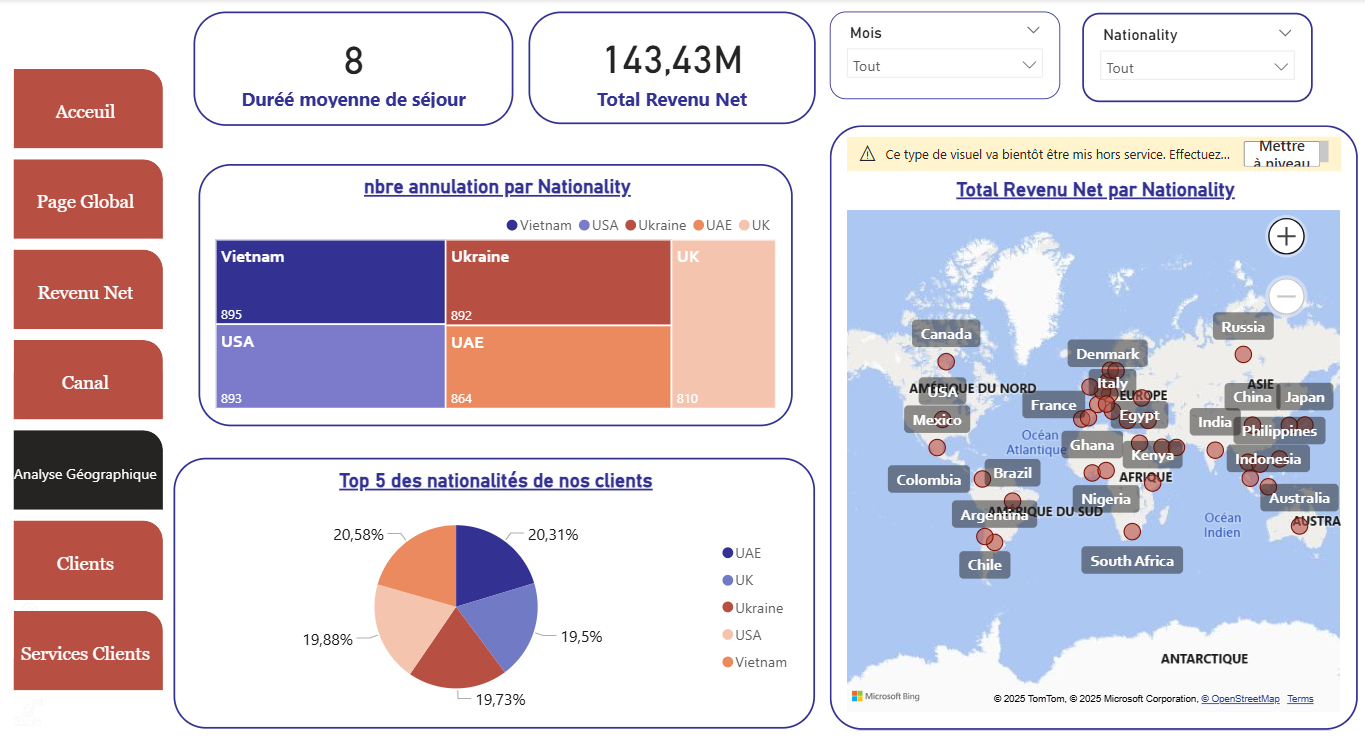

This screenshot's page, from the dashboard's own definition file:
{"tool":"powerbi","page":{"name":"Analyse Géographique","canvas":[1280,720],"ordinal":4},"visuals":[{"type":"pieChart","title":"Top 5 des nationalités de nos clients","fields":{"Series":["Dim_Guest.Nationality"],"Y":["CountNonNull(Dim_Guest.Guest ID)"]},"box":[165.1,426.8,596.7,251.9],"z":0},{"type":"card","fields":{"Values":["Fact_Reservation.Total Revenu Net"]},"box":[495.2,12.1,267.1,104.7],"z":1000},{"type":"treemap","title":"Nombre d''annulation par région","fields":{"Values":["Fact_Reservation.nbre annulation"],"Group":["Dim_Guest.Nationality"]},"box":[187.9,153,552.9,244.2],"z":2000},{"type":"card","fields":{"Values":["Fact_Reservation.Average Nights by Stay Reason"]},"box":[183.9,12.1,297.9,106],"z":3000},{"type":"slicer","fields":{"Values":["DimDate.Date.Variation.Hiérarchie de dates.Mois"]},"box":[775.3,11.7,214.3,81.8],"z":4000},{"type":"slicer","fields":{"Values":["Dim_Guest.Nationality"]},"box":[1010.4,13,214.3,83.1],"z":5000},{"type":"map","title":"Total Revenu Net par région","fields":{"Category":["Dim_Guest.Nationality"]},"box":[775.6,117.1,491.5,562.2],"z":6000},{"type":"image","box":[4.9,146.7,44,74.6],"z":7000},{"type":"image","box":[0,221.3,56.3,107.6],"z":8000},{"type":"image","box":[0,338.7,56.3,88],"z":9000},{"type":"image","box":[0,396.2,56.3,110.1],"z":10000},{"type":"image","box":[0,528.3,64.8,116.2],"z":11000},{"type":"image","box":[1.2,628.5,56.3,91.7],"z":12000},{"type":"pageNavigator","box":[15.9,64.8,139.4,579.6],"z":13000}]}

Visuals, with their boxes in screenshot pixels (x1, y1, x2, y2):
"Top 5 des nationalités de nos clients" pieChart: rect(173, 453, 812, 723)
card - Fact_Reservation.Total Revenu Net: rect(526, 9, 812, 121)
"Nombre d''annulation par région" treemap: rect(198, 160, 789, 422)
card - Fact_Reservation.Average Nights by Stay Reason: rect(193, 9, 512, 123)
slicer - DimDate.Date.Variation.Hiérarchie de dates.Mois: rect(826, 9, 1055, 97)
slicer - Dim_Guest.Nationality: rect(1078, 10, 1307, 99)
"Total Revenu Net par région" map: rect(826, 122, 1352, 723)
image: rect(2, 153, 49, 233)
image: rect(0, 233, 57, 348)
image: rect(0, 359, 57, 453)
image: rect(0, 420, 57, 538)
image: rect(0, 562, 66, 686)
image: rect(0, 669, 58, 754)
pageNavigator: rect(13, 66, 163, 686)
